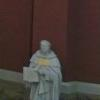Statue: (24, 31, 70, 100)
